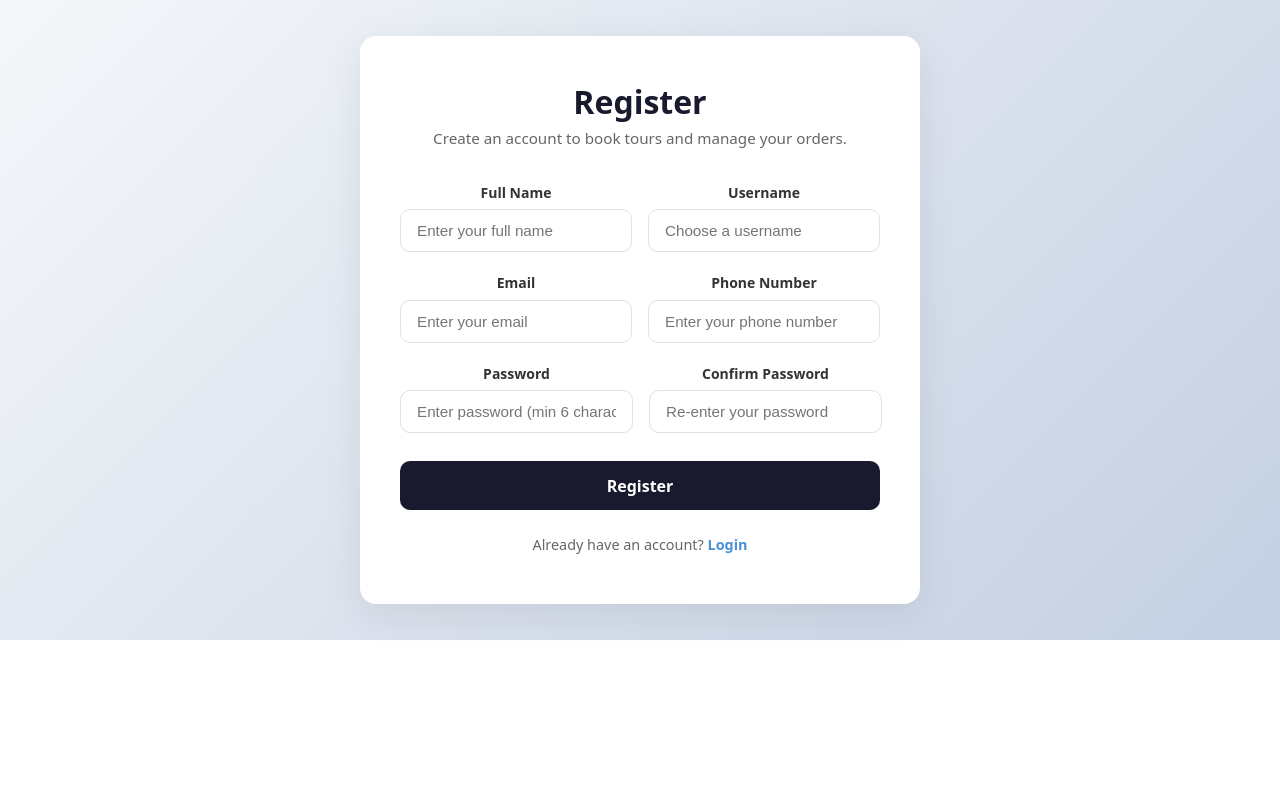
Test: Register page › should show password mismatch error
This screenshot has width=1280, height=800.
In the field with placeholder "Enter your full name": (516, 231) [400,209,632,252], type "Test User"
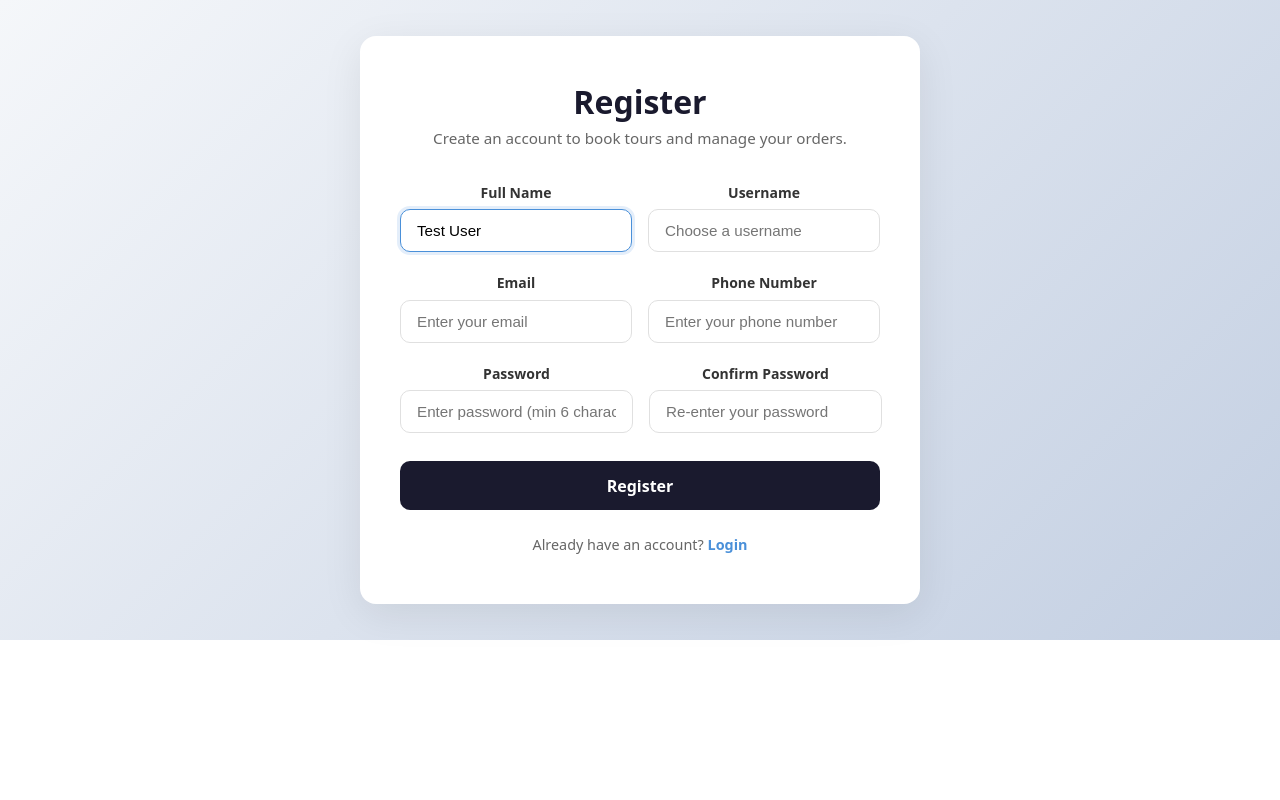
In the field with placeholder "Choose a username": (764, 231) [648,209,880,252], type "testuser"
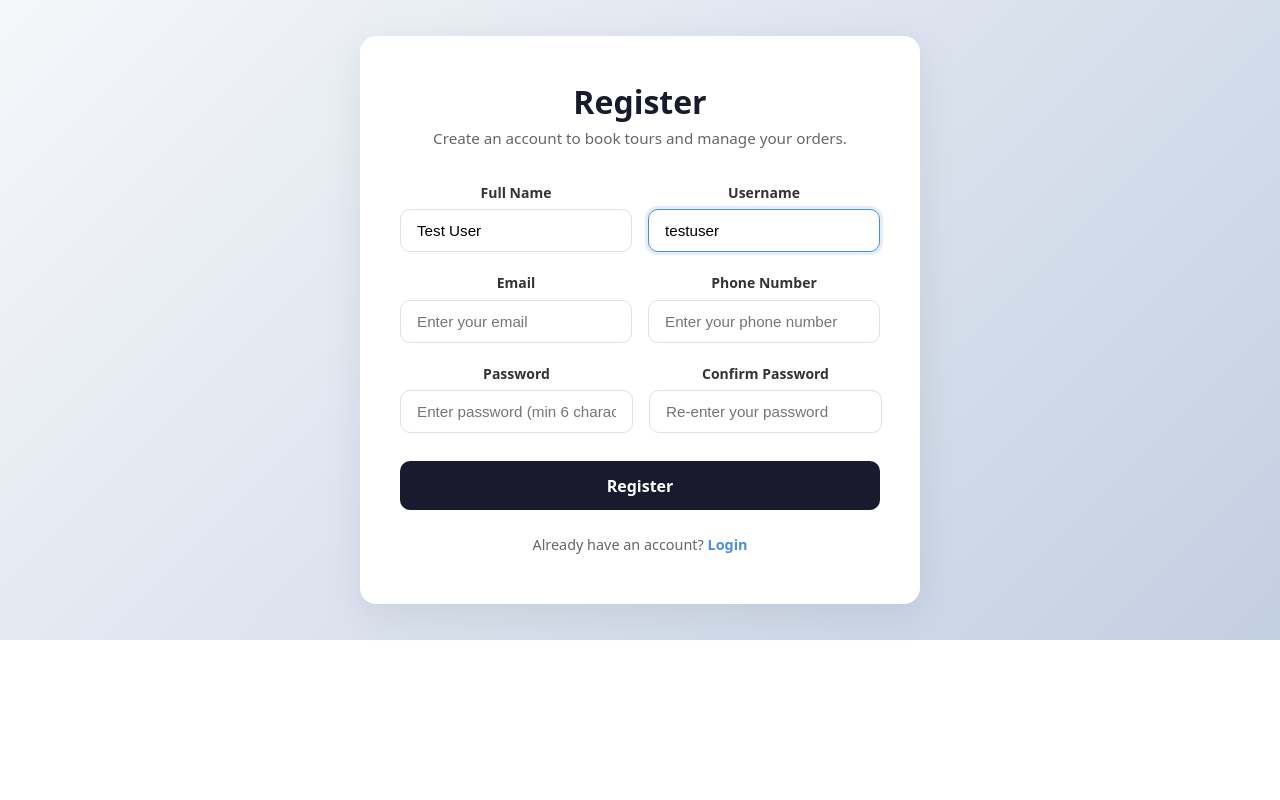
In the field with placeholder "Enter your email": (516, 321) [400,300,632,343], type "test@test.com"
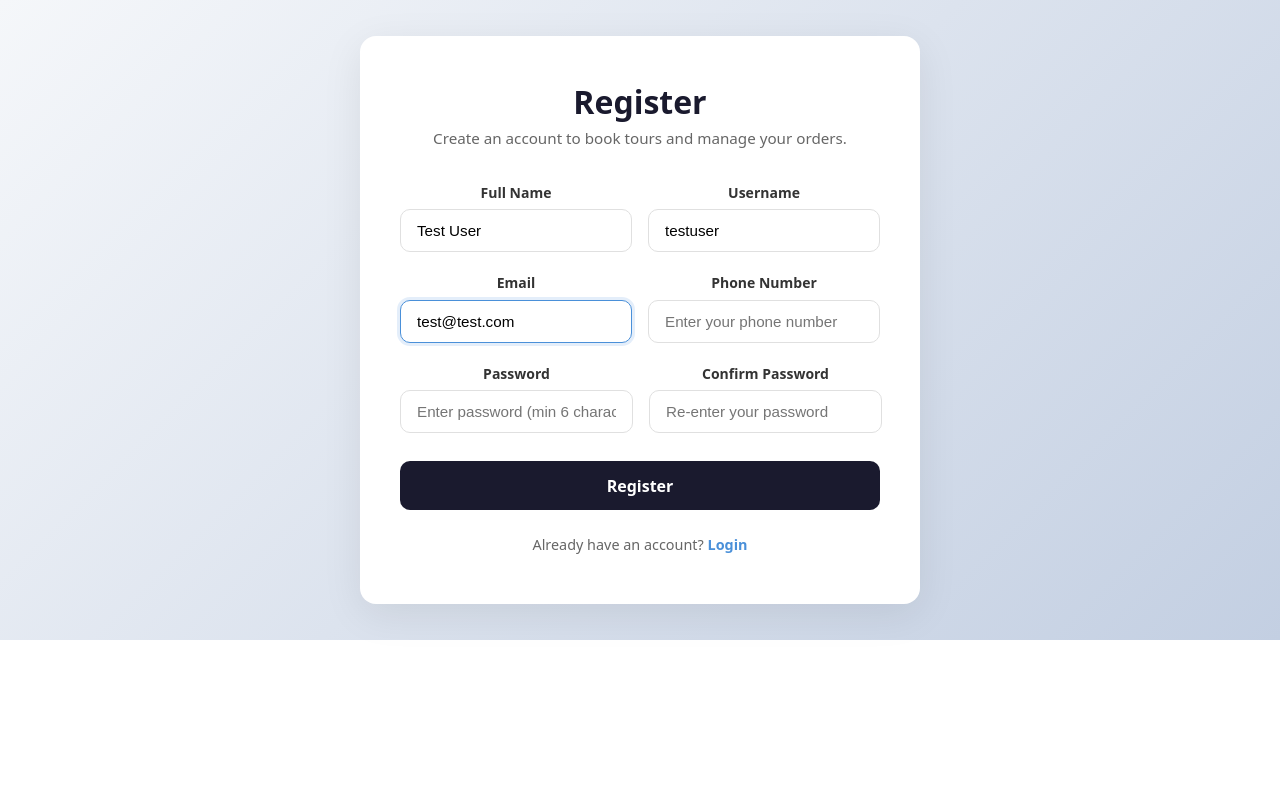
In the password field with placeholder "Enter password (min 6 characters)": (516, 412) [400,390,633,433], type "password1"
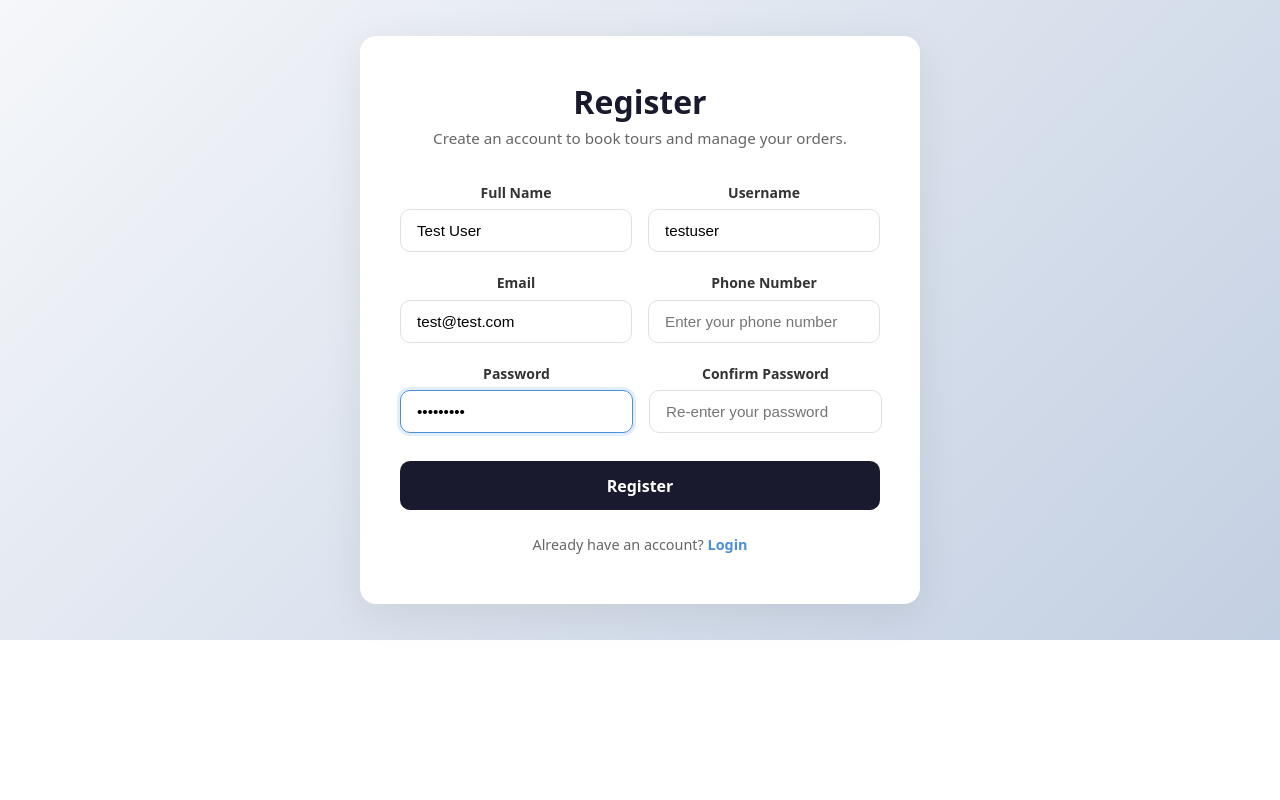
In the password field with placeholder "Re-enter your password": (766, 412) [649,390,882,433], type "password2"
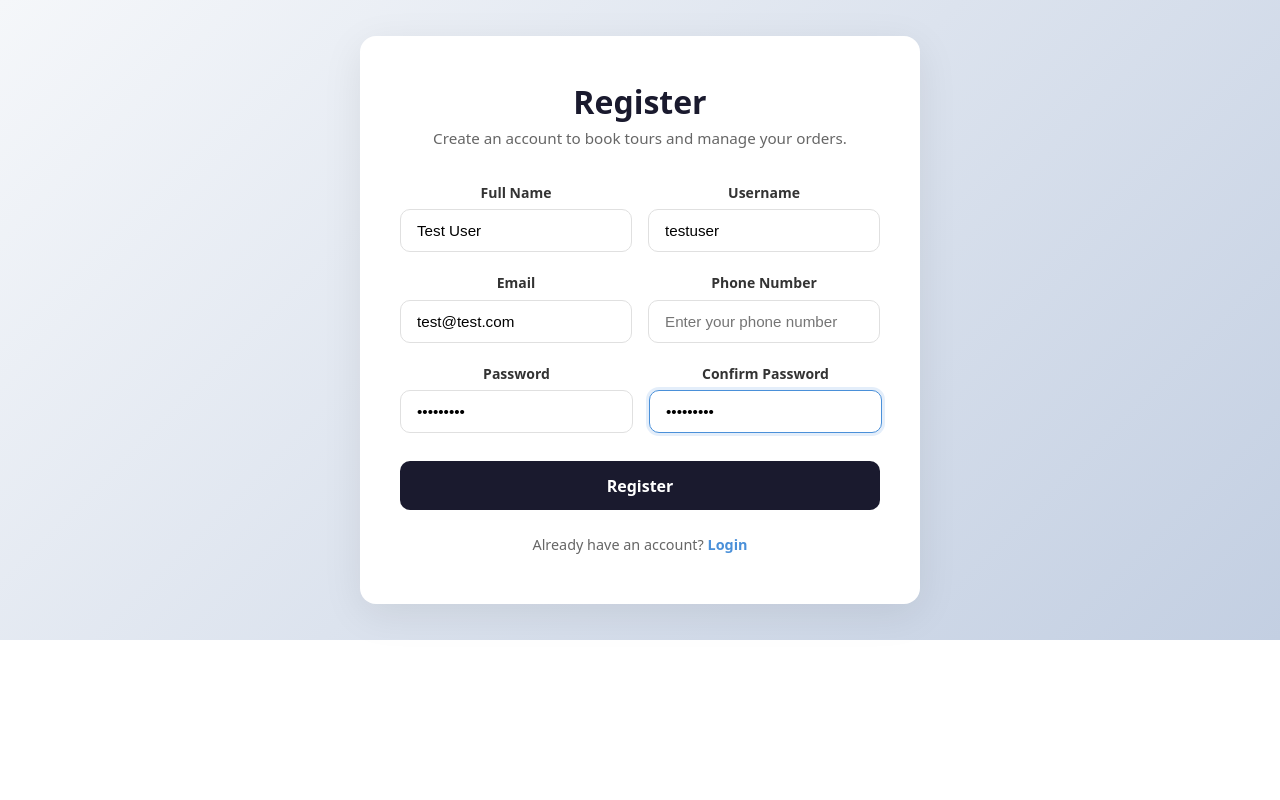
Click the button "Register": (640, 486) [400,461,880,510]
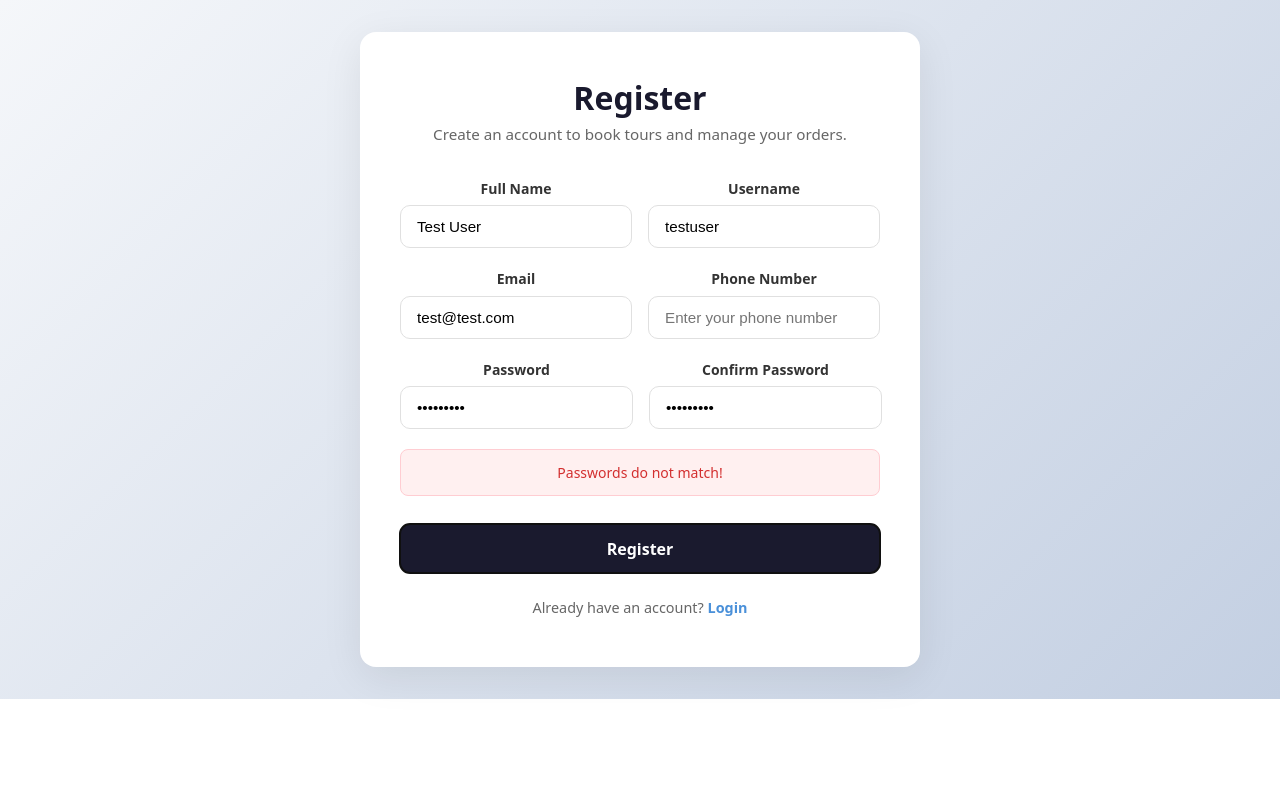
Check: the text "Passwords do not match!" is shown, box [400,449,880,496]
